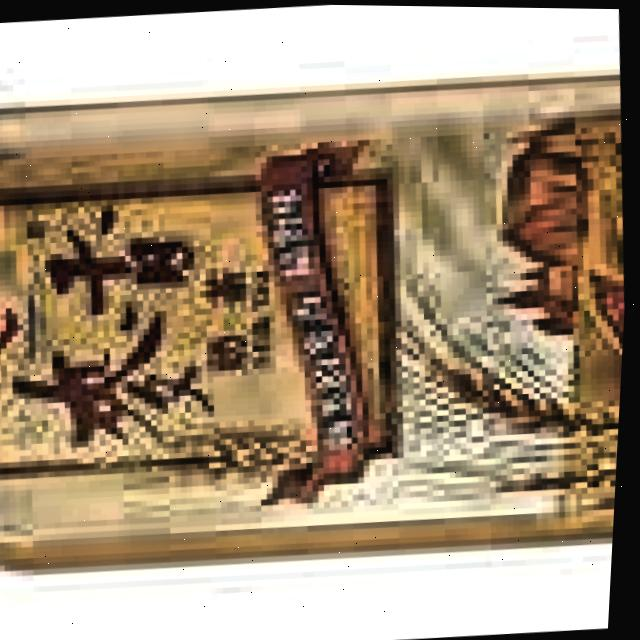metal: (0, 36, 639, 600)
